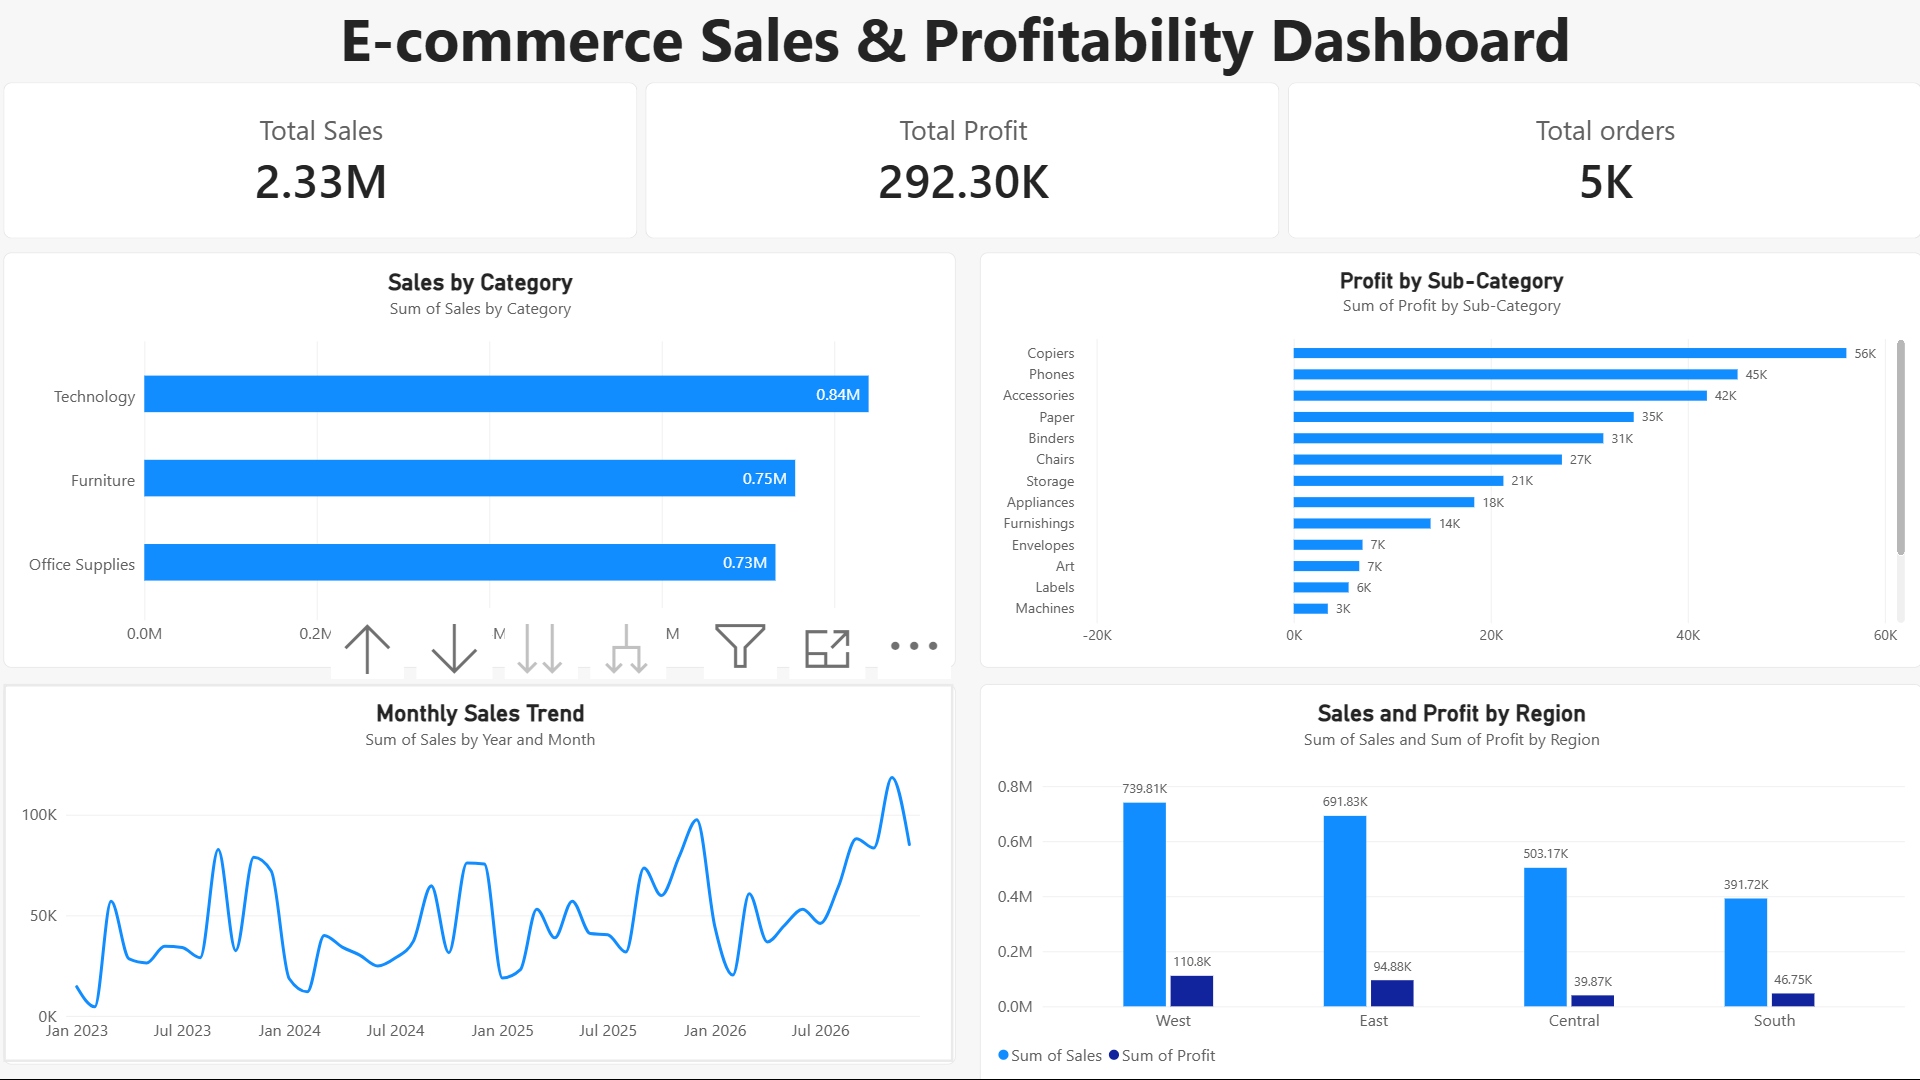

What the dashboard file says about the page in this screenshot:
{"tool":"powerbi","page":{"name":"Page 1","canvas":[1920,1080],"ordinal":0},"visuals":[{"type":"cardVisual","fields":{"Data":["Sum(superstore.Sales)","Sum(superstore.Profit)","superstore.total_orders"]},"box":[15,85,1905,155],"z":0},{"type":"clusteredBarChart","title":"Sales by Category","fields":{"Category":["superstore.Category"],"Y":["Sum(superstore.Sales)"]},"box":[15,251.7,945,411.7],"z":1000},{"type":"clusteredBarChart","title":"Profit by Sub-Category","fields":{"Category":["superstore.Sub-Category"],"Y":["Sum(superstore.Profit)"]},"box":[985,251.7,935,411.7],"z":2000},{"type":"lineChart","title":"Monthly Sales Trend","fields":{"Category":["superstore.Order Date.Variation.Date Hierarchy.Year","superstore.Order Date.Variation.Date Hierarchy.Month"],"Y":["Sum(superstore.Sales)"]},"box":[15,680,945,377.5],"z":3000},{"type":"clusteredColumnChart","title":"Sales and Profit by Region","fields":{"Category":["superstore.Region"],"Y":["Sum(superstore.Sales)","Sum(superstore.Profit)"]},"box":[985,680,935,400],"z":4000},{"type":"textbox","box":[0,0,1920,85],"z":5000}]}

Visuals, with their boxes in screenshot pixels (x1, y1, x2, y2), scaled from the page's 1920x1080 canvas onto the 1920x1080 screenshot:
cardVisual - Sum(superstore.Sales) x Sum(superstore.Profit): region(15, 85, 1919, 240)
"Sales by Category" clusteredBarChart: region(15, 252, 960, 663)
"Profit by Sub-Category" clusteredBarChart: region(985, 252, 1919, 663)
"Monthly Sales Trend" lineChart: region(15, 680, 960, 1058)
"Sales and Profit by Region" clusteredColumnChart: region(985, 680, 1919, 1079)
textbox: region(0, 0, 1919, 85)
